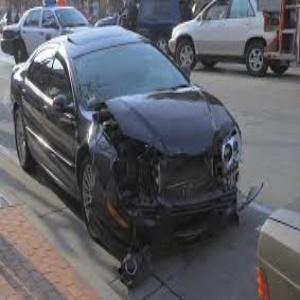bonnet: (108, 92, 212, 152)
bumper: (115, 182, 236, 276)
